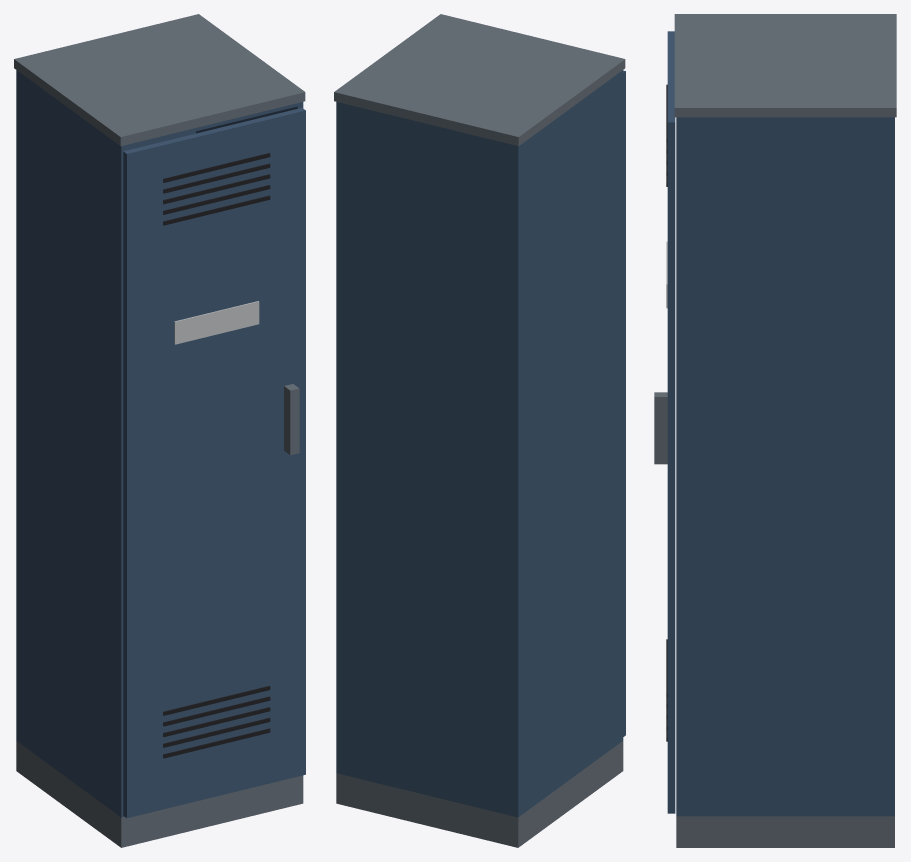
The model's file is locker.glb.
3 renders of one model, left to right at view 1: azimuth 30°, elevation 25°; view 2: azimuth 150°, elevation 25°; view 3: azimuth 270°, elevation 25°, orthographic. The views are drawn at different scales.
Visible parts, largest first — view 1: Door, Locker; view 2: Locker, Door; view 3: Locker, Door.
Boxes of the visible parts, bbox=[...] form: Door: bbox=[123, 108, 305, 818]; Locker: bbox=[14, 14, 305, 847]; Locker: bbox=[334, 14, 625, 847]; Door: bbox=[623, 70, 625, 736]; Locker: bbox=[674, 14, 896, 847]; Door: bbox=[654, 31, 675, 813].
Size of the model in its own units: 0.508 by 1.87 by 0.554.
